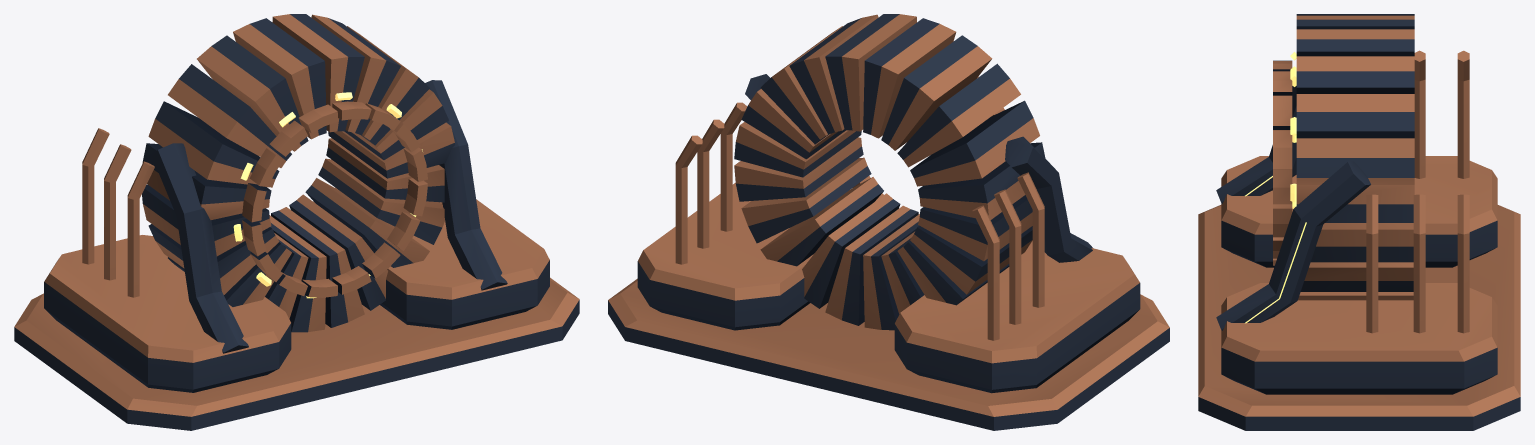
The model's file is forge-smelter.glb.
3 renders of one model, left to right at view 1: azimuth 30°, elevation 25°; view 2: azimuth 150°, elevation 25°; view 3: azimuth 270°, elevation 25°, orthographic.
Parts seen in each view (by area): view 1: forge-smelter; view 2: forge-smelter; view 3: forge-smelter.
Part boxes in pixels (left/top/right/bottom): forge-smelter: left=14, top=14, right=579, bottom=430; forge-smelter: left=608, top=14, right=1169, bottom=430; forge-smelter: left=1198, top=14, right=1520, bottom=430.
Bounding box in the file's own units: 9.8 × 6.13 × 6.
